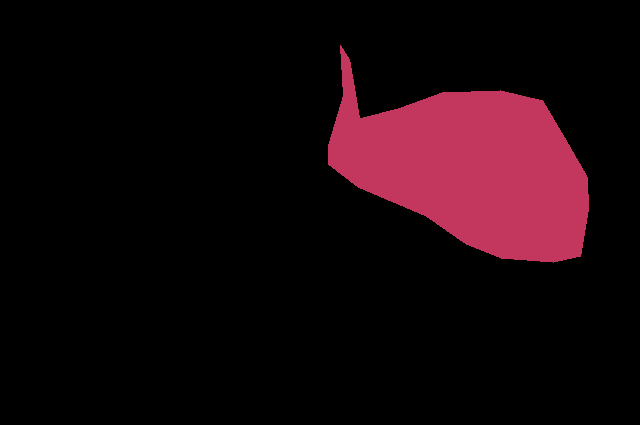Airplane: (328, 45, 589, 262)
